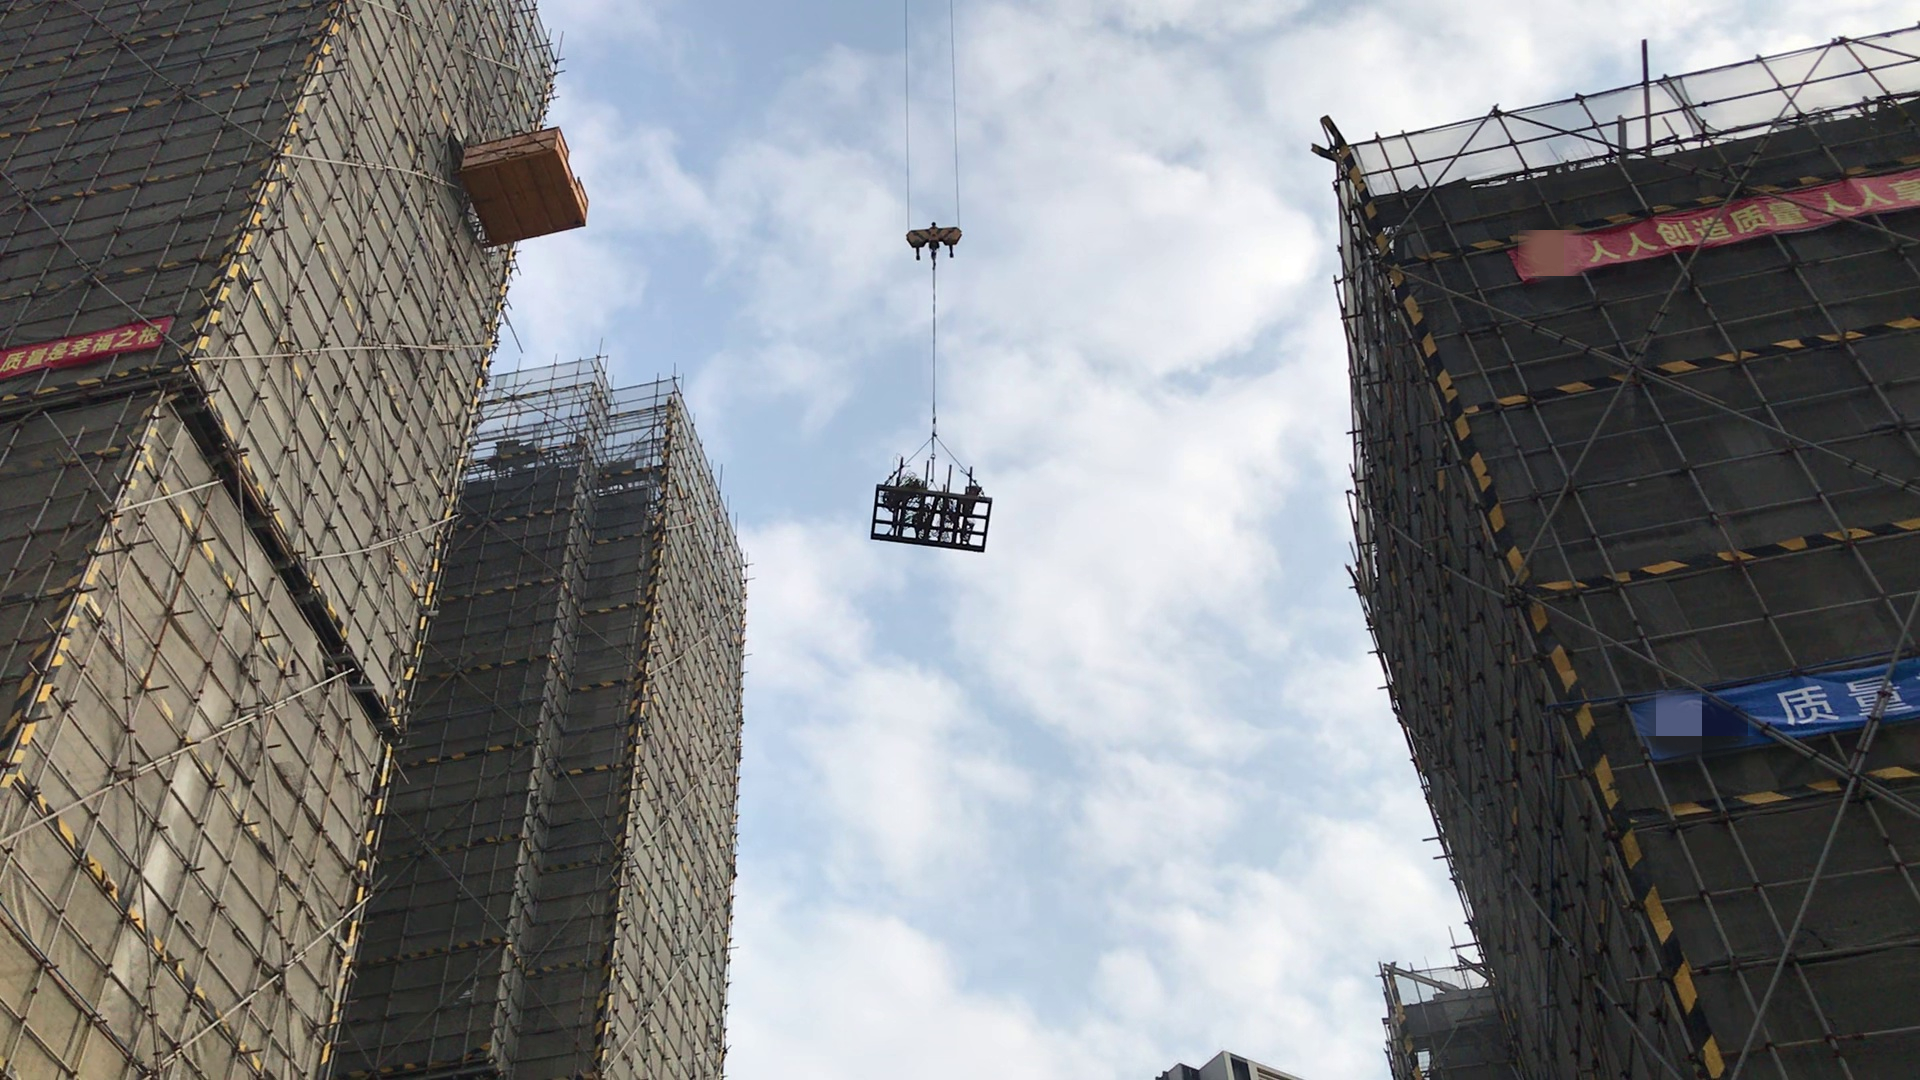hook: (902, 208, 977, 258)
slogan: (1480, 164, 1920, 286), (1734, 661, 1920, 753), (3, 307, 174, 386)
